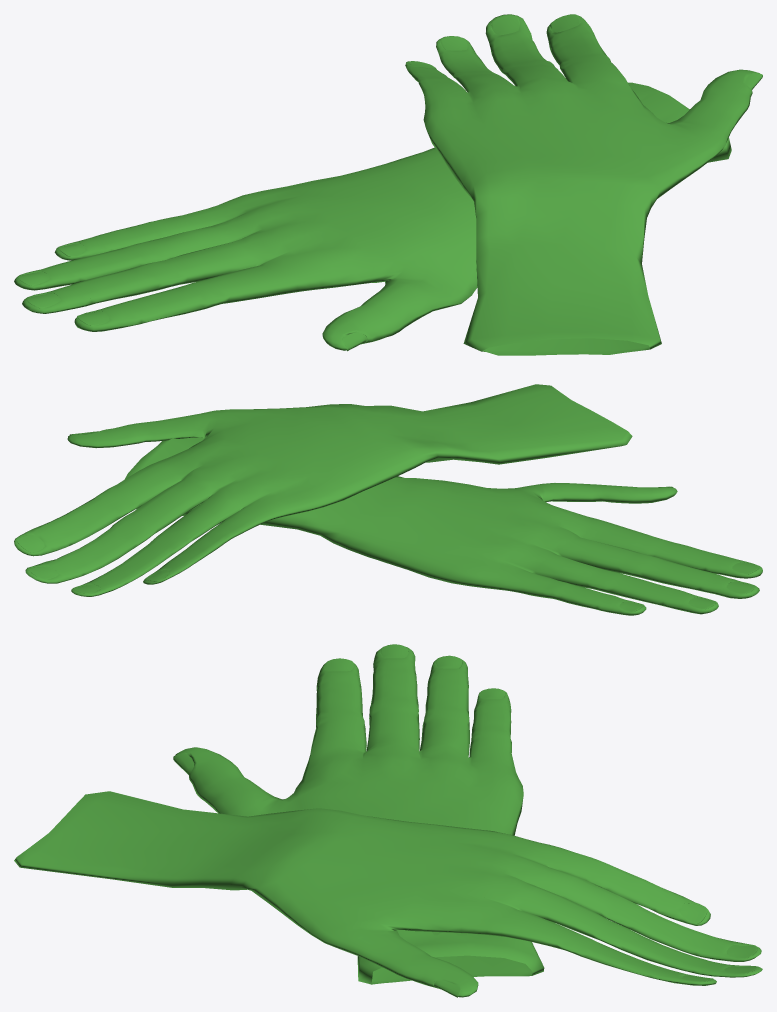
The model's file is Gloves.fbx.
3 views of the same model, one above another, from view 1: azimuth 30°, elevation 25°; view 2: azimuth 150°, elevation 25°; view 3: azimuth 270°, elevation 25° (orthographic). The views are drawn at different scales.
Parts seen in each view (by area): view 1: PPE_Sute_Latex_Gloves_Merged_Cloth; view 2: PPE_Sute_Latex_Gloves_Merged_Cloth; view 3: PPE_Sute_Latex_Gloves_Merged_Cloth.
Boxes of the visible parts, x1=… form: PPE_Sute_Latex_Gloves_Merged_Cloth: x1=14, y1=14, x2=762, y2=355; PPE_Sute_Latex_Gloves_Merged_Cloth: x1=14, y1=384, x2=762, y2=615; PPE_Sute_Latex_Gloves_Merged_Cloth: x1=14, y1=644, x2=762, y2=997.
Bounding box in the file's own units: 0.2807 × 0.025 × 0.2395.
